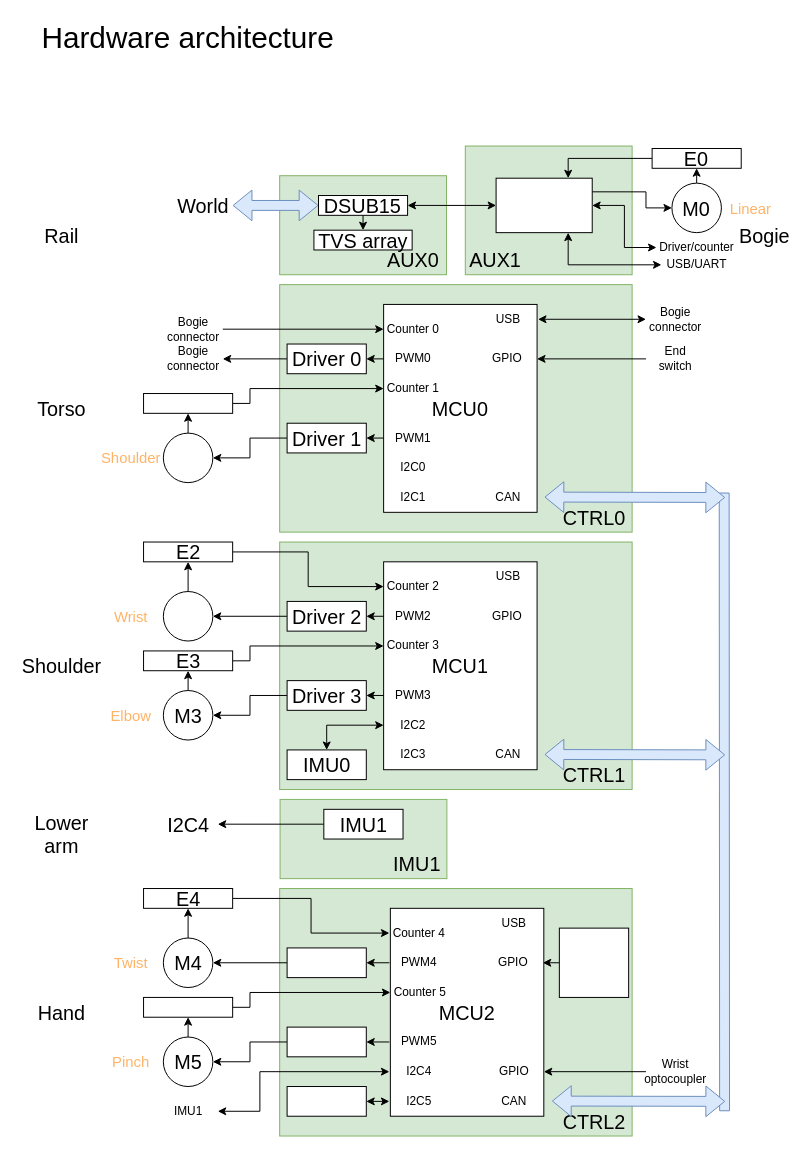
The diagram is 811 pixels wide and 1153 high, and some of its shapes have lost their labels. The shapes that lost their labels are listed below. From the top down, each one's centre as x and y in pixels, then its label:
At pixel 543 205: "Connector".
At pixel 188 403: "E1".
At pixel 187 457: "M1".
At pixel 187 616: "M2".
At pixel 326 962: "Driver 4".
At pixel 593 962: "Twist opto-coupler".
At pixel 188 1006: "E5".
At pixel 326 1041: "Driver 5".
At pixel 326 1101: "IMU2".
